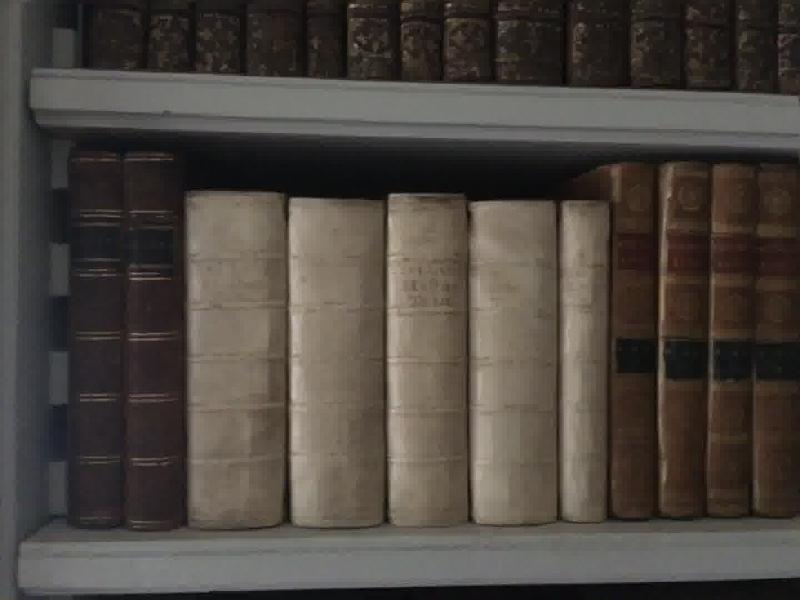Kk4-1_2: (62, 142, 188, 536)
Kk4-3_7: (180, 179, 627, 532)
Kk4-8_13: (606, 148, 800, 527)
